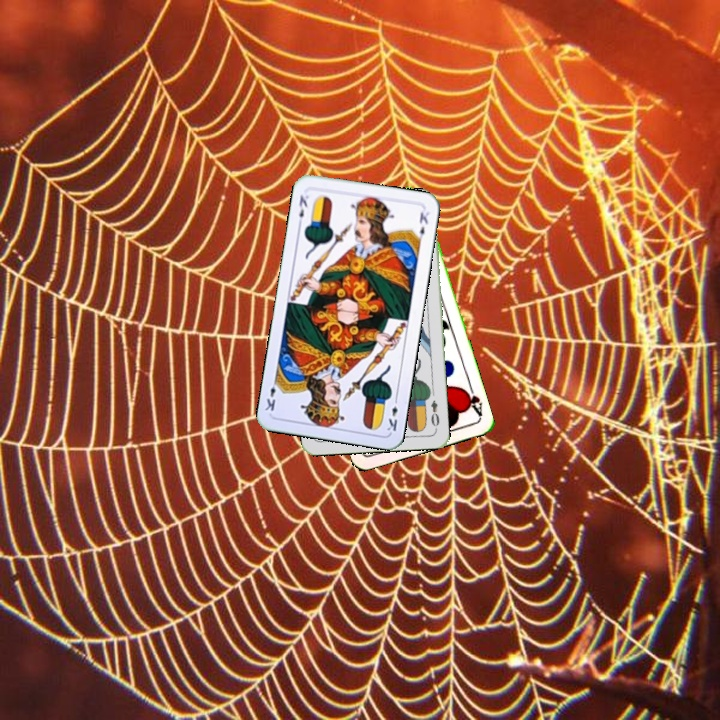EK: (383, 393, 400, 434), (294, 191, 311, 228)
EO: (427, 396, 442, 432)
HA: (459, 380, 485, 419)
